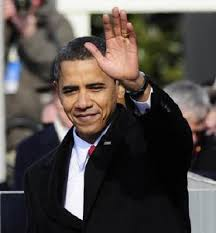palm: (81, 5, 142, 81)
